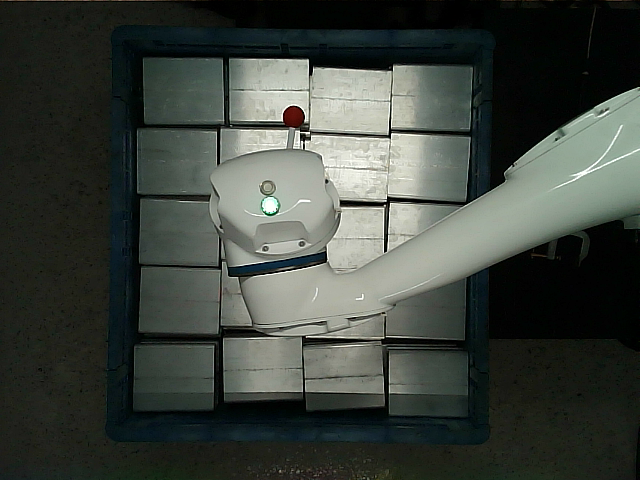green_light: (261, 196, 279, 215)
